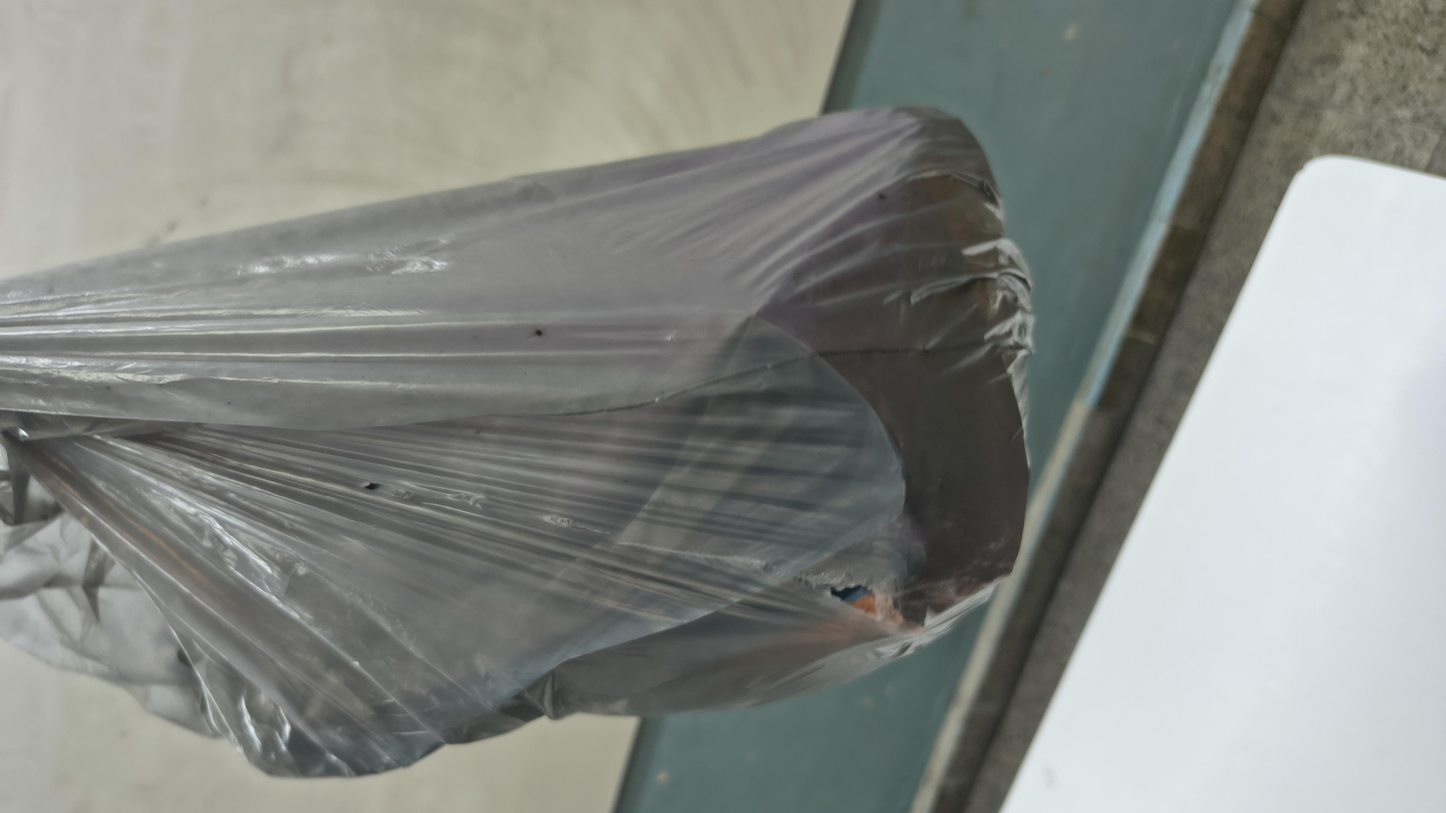Garbage: (13, 0, 1400, 603)
